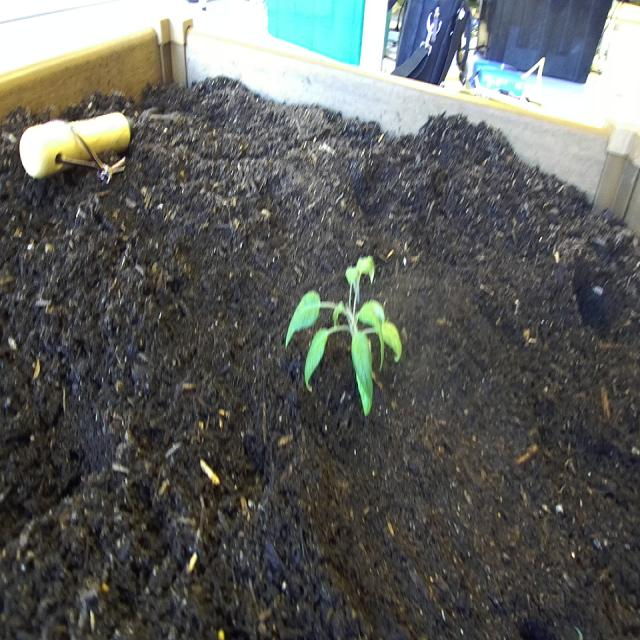Healthy: (282, 246, 408, 422)
